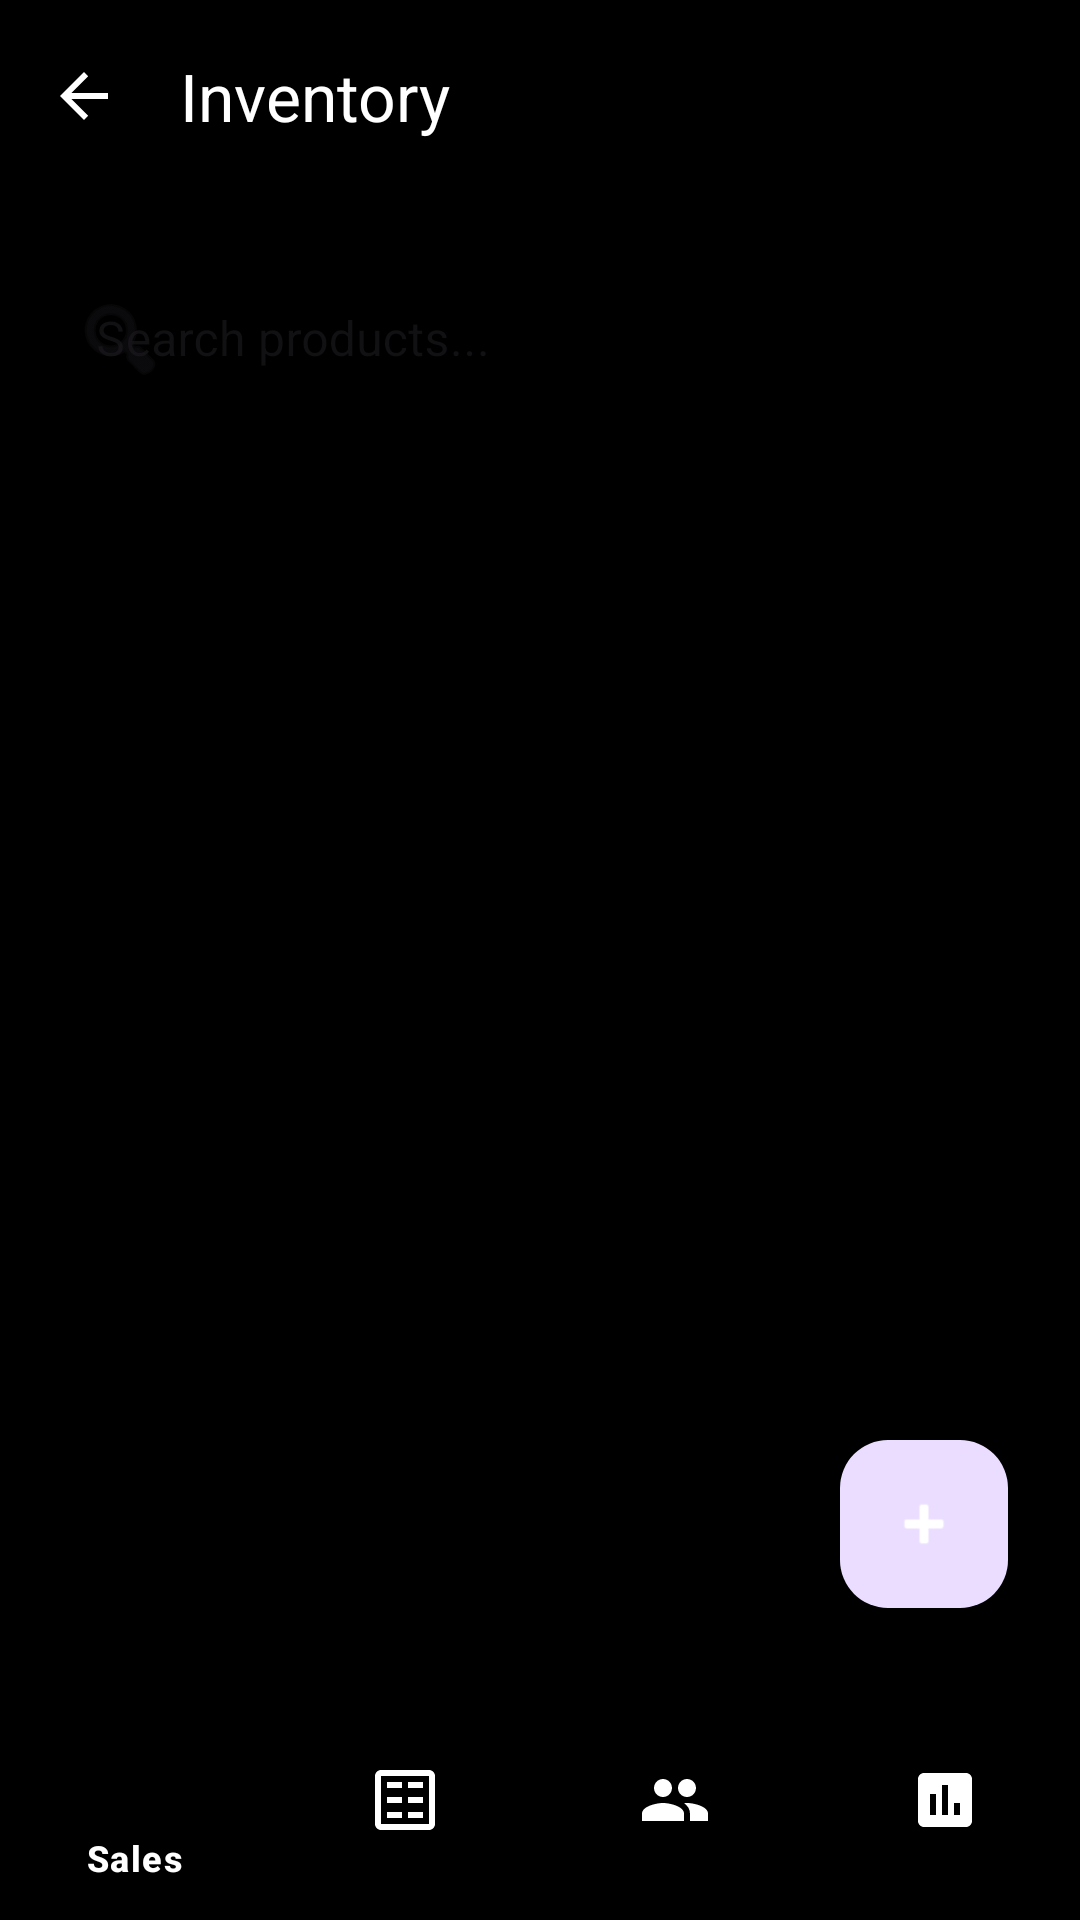

Named icons in this screenshot (1080w x 1920h) and their bounding boxes, {"left": x1, "top": y1, "right": x2, "bottom": y2}:
add: {"left": 840, "top": 1440, "right": 1008, "bottom": 1608}
